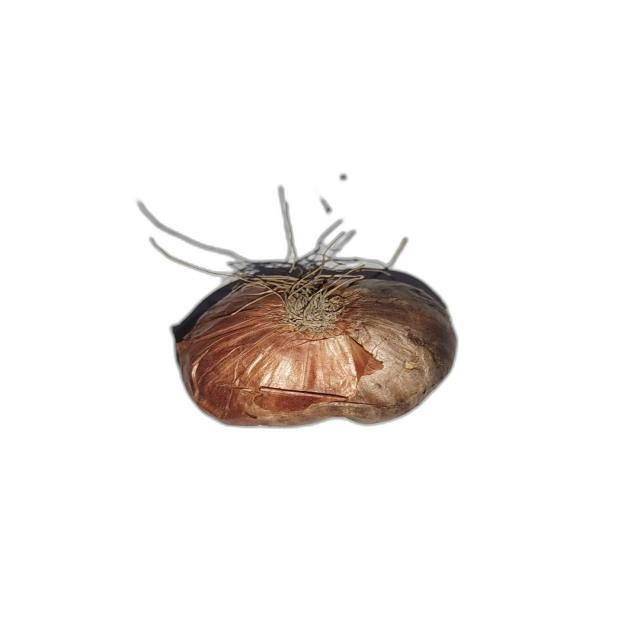onion: (147, 188, 460, 430)
